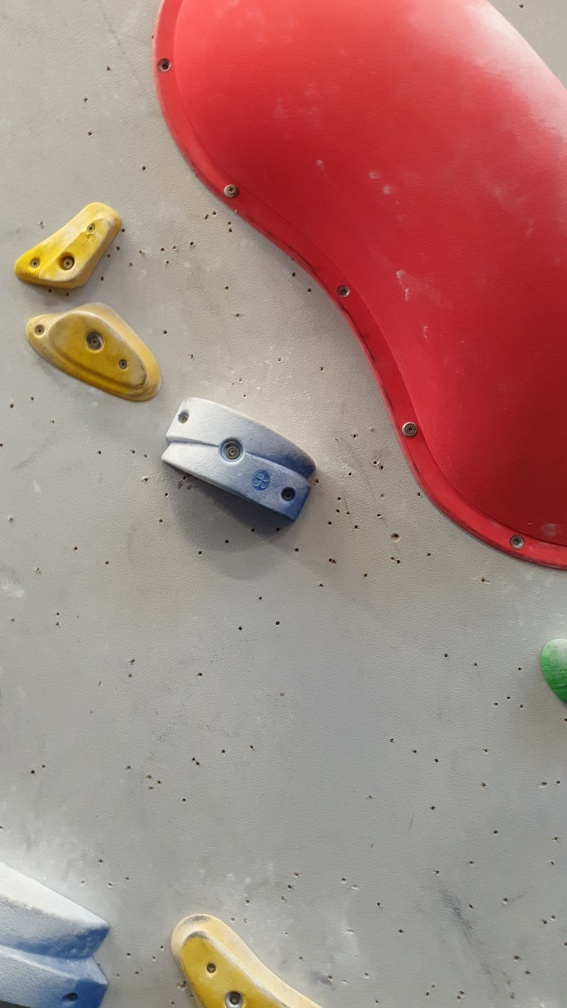Crimp: (171, 919, 298, 1008), (45, 303, 153, 394), (34, 213, 121, 290)
Pinch: (159, 392, 321, 527), (1, 855, 112, 1006)
